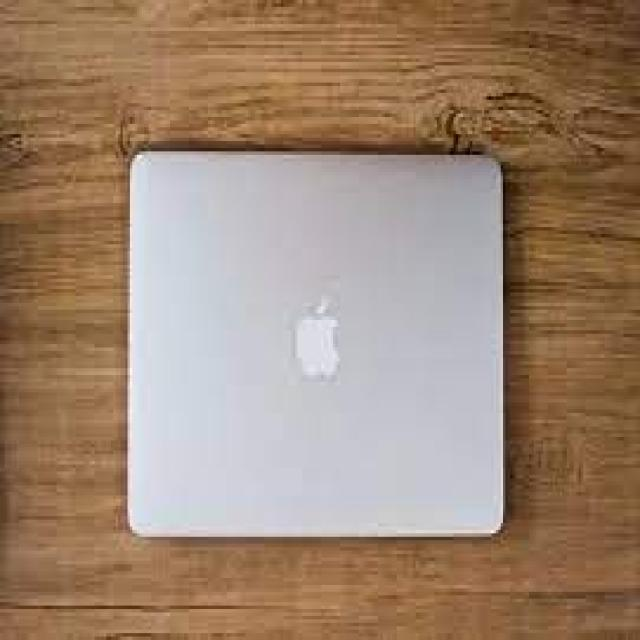laptop: (126, 145, 506, 540)
